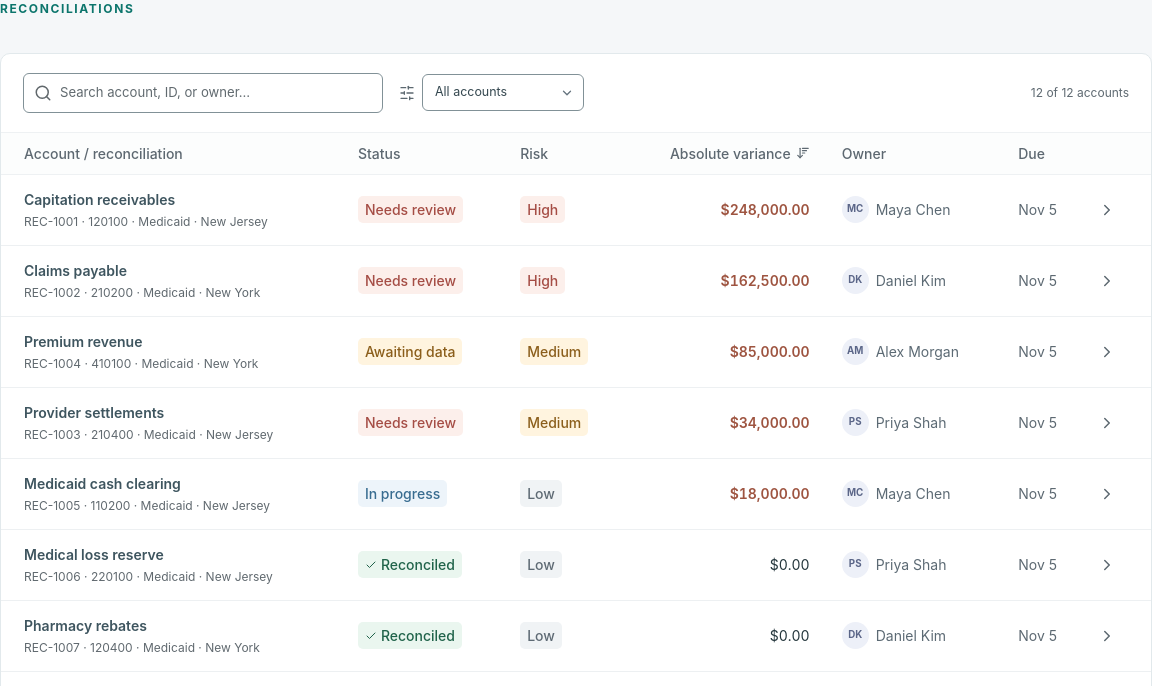
Test: searches rows and forwards filter changes
Later steps or results of the test are not shown.
In the field named "Search reconciliations": (216, 93) x1=60 y1=81 x2=372 y2=105, type "REC-1001"
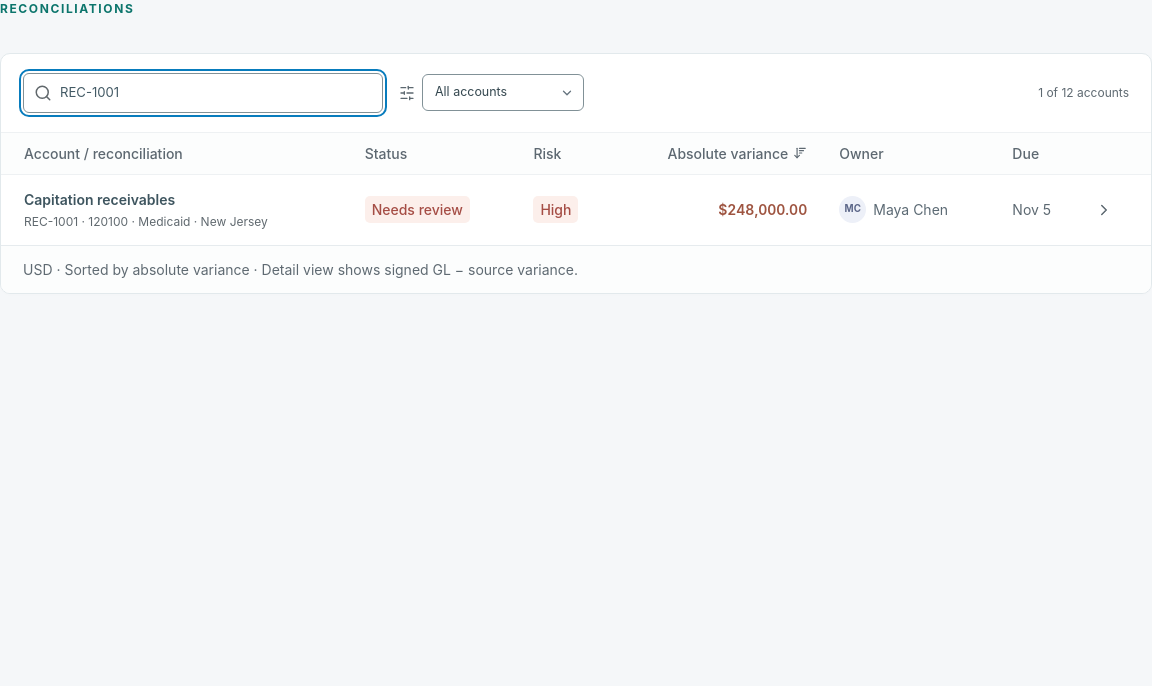
Expected: the message named "Reconciliation result count" reads "1 of 12 accounts", x1=1038 y1=84 x2=1129 y2=102
